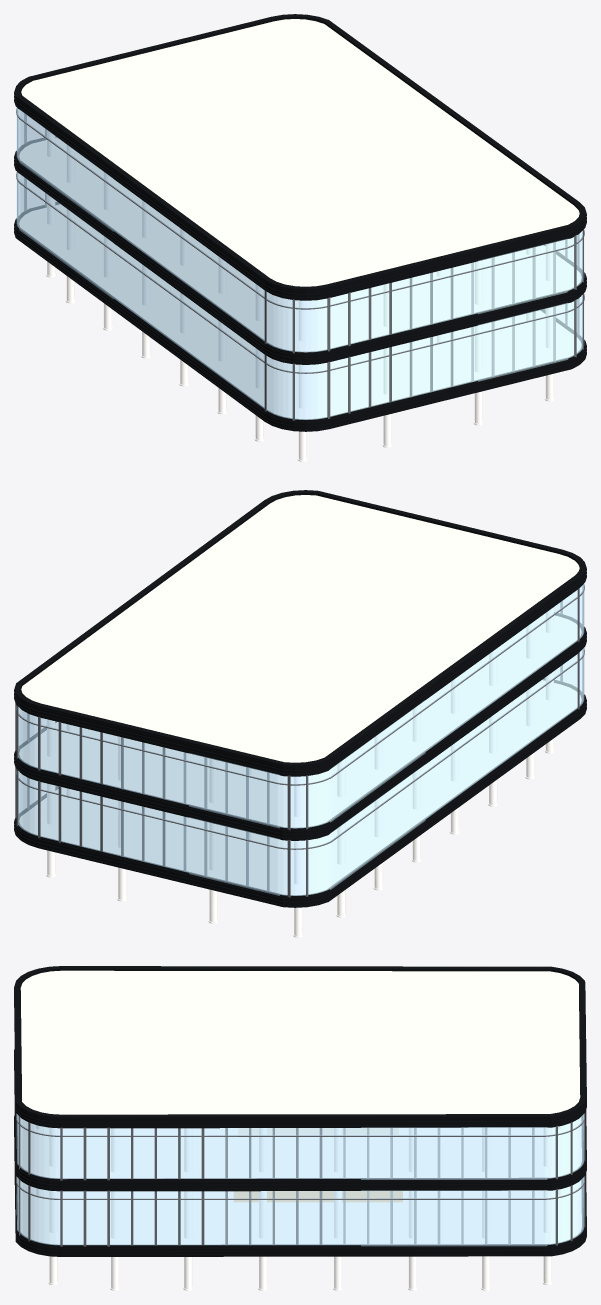
File: building.glb
3 views of the same model, one above another, from view 1: azimuth 30°, elevation 25°; view 2: azimuth 150°, elevation 25°; view 3: azimuth 270°, elevation 25° (orthographic).
Parts seen in each view (by area): view 1: building_floor_and_roof_slabs, panoramic_glass_curtain_walls, dark_steel_fascia_and_spandrels, structural_pilotis_and_columns, steel_curtain_wall_mullions; view 2: building_floor_and_roof_slabs, panoramic_glass_curtain_walls, dark_steel_fascia_and_spandrels, structural_pilotis_and_columns, steel_curtain_wall_mullions; view 3: building_floor_and_roof_slabs, panoramic_glass_curtain_walls, dark_steel_fascia_and_spandrels, steel_curtain_wall_mullions, structural_pilotis_and_columns, interior_timber_core_L1, interior_core_L2.
Part boxes in pixels (x1,y1,x2,y2): building_floor_and_roof_slabs: [19, 19, 581, 418]; panoramic_glass_curtain_walls: [16, 107, 584, 419]; dark_steel_fascia_and_spandrels: [14, 14, 586, 431]; structural_pilotis_and_columns: [46, 130, 554, 461]; steel_curtain_wall_mullions: [16, 108, 584, 420]; building_floor_and_roof_slabs: [19, 495, 581, 894]; panoramic_glass_curtain_walls: [18, 583, 584, 895]; dark_steel_fascia_and_spandrels: [14, 490, 586, 907]; structural_pilotis_and_columns: [46, 607, 554, 937]; steel_curtain_wall_mullions: [15, 584, 584, 897]; building_floor_and_roof_slabs: [20, 970, 581, 1244]; panoramic_glass_curtain_walls: [16, 1114, 583, 1245]; dark_steel_fascia_and_spandrels: [14, 966, 586, 1256]; steel_curtain_wall_mullions: [16, 1113, 585, 1246]; structural_pilotis_and_columns: [36, 1125, 564, 1290]; interior_timber_core_L1: [234, 1191, 402, 1201]; interior_core_L2: [238, 1128, 398, 1134].
Bounding box in the file's own units: 20.12 × 11.28 × 32.12.
7 materials, 3 textured.
